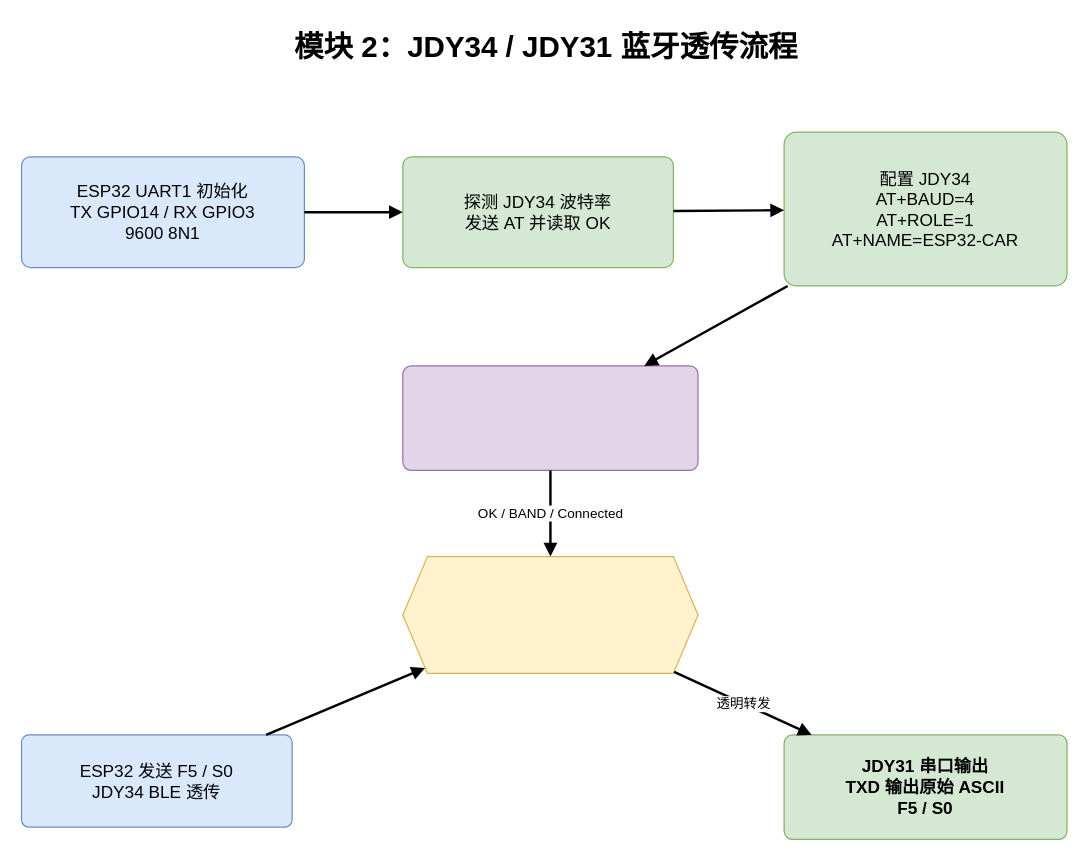
The diagram is 1089 pixels wide and 861 high, and some of its shapes have lost their labels. Here are the shapes that lost their labels. From the top down, the centre of each, then its label:
At (550,417): "绑定 JDY31 AT+BAND220C180B3AB0".
At (550,614): "BLE 连接成功 JDY34 主机 - JDY31 从机".
